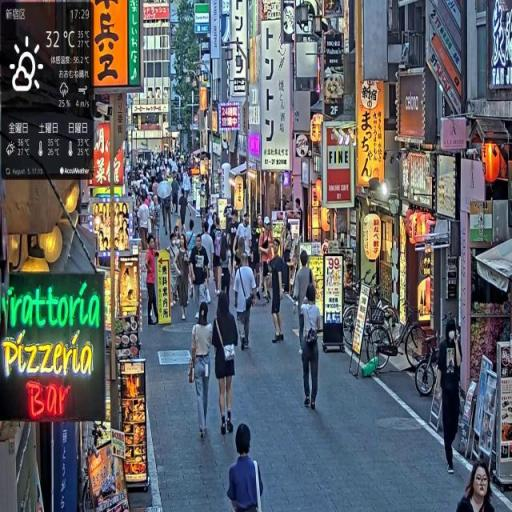person: (437, 316, 465, 478), (187, 302, 217, 439), (212, 290, 239, 436), (227, 423, 265, 512), (299, 284, 325, 412), (233, 253, 259, 352), (293, 252, 316, 357), (268, 239, 289, 345), (456, 460, 498, 512), (191, 235, 211, 321), (176, 236, 193, 323), (145, 236, 160, 328), (260, 219, 275, 304)
